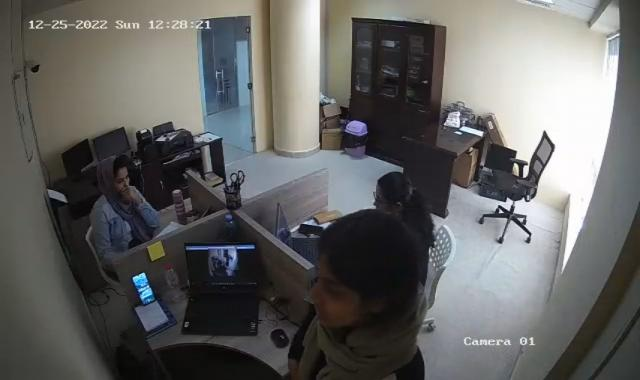no_hairnet: (309, 216, 414, 322), (370, 171, 421, 214), (95, 157, 134, 184)
